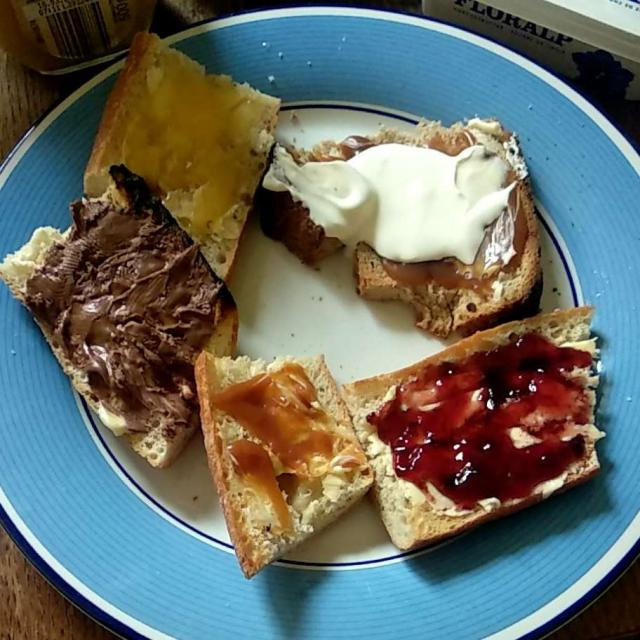bread-white: (10, 39, 598, 582)
hazelnut-chocolate-spread-nutella-ovomaltine-caotina: (33, 168, 226, 430)
honey: (127, 53, 281, 253)
sour-cream: (263, 149, 510, 266)
